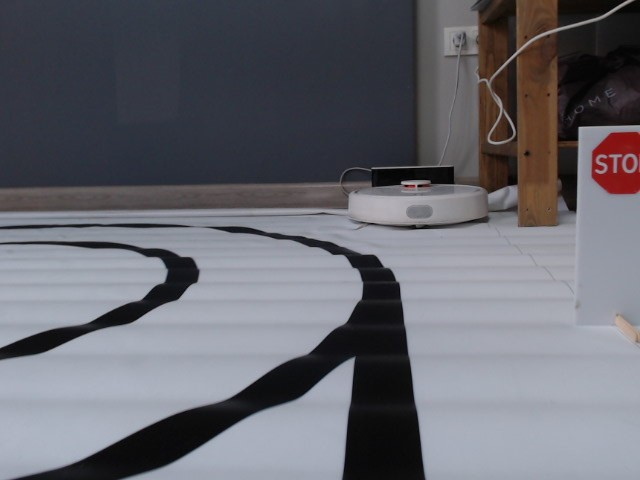Stop: (589, 131, 640, 199)
